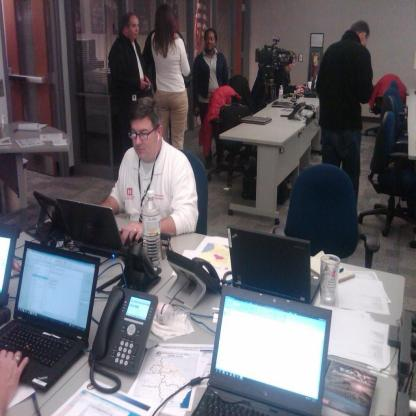board: (201, 258, 330, 416), (0, 240, 100, 390), (228, 226, 320, 303), (57, 195, 144, 260), (0, 223, 18, 327), (33, 188, 69, 236), (271, 86, 300, 108), (240, 114, 273, 126), (309, 75, 316, 90)
